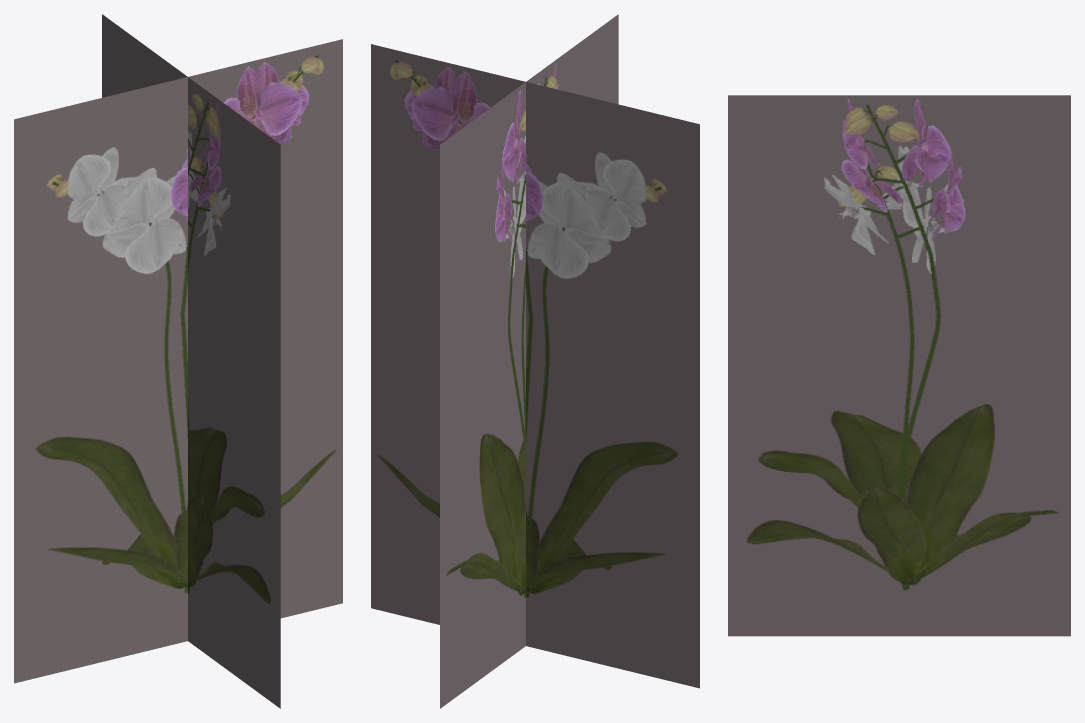
Rendered from BulbophyllumPhalaenopsis.glb.
3 views of the same model, side by side, from view 1: azimuth 30°, elevation 25°; view 2: azimuth 150°, elevation 25°; view 3: azimuth 270°, elevation 25° (orthographic). The views are drawn at different scales.
Visible parts, largest first — view 1: mesh__mat_billboard_14; view 2: mesh__mat_billboard_14; view 3: mesh__mat_billboard_14.
Boxes of the visible parts, x1,y1,x2,y2 form: mesh__mat_billboard_14: (14, 14, 342, 708); mesh__mat_billboard_14: (371, 14, 699, 708); mesh__mat_billboard_14: (728, 95, 1070, 636).
Size of the model in its own units: 0.4715 by 0.7726 by 0.4435.
1 material, 1 textured.
